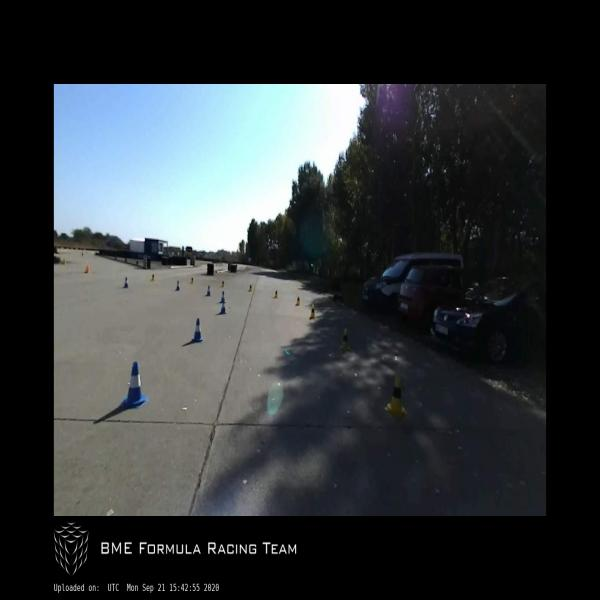blue_cone: (121, 361, 149, 409), (190, 317, 203, 342), (219, 298, 227, 314), (219, 290, 226, 303), (205, 284, 212, 296), (220, 290, 226, 304), (123, 276, 129, 289), (174, 280, 180, 291)
orange_cone: (84, 265, 89, 273)
yellow_cone: (384, 375, 405, 419), (338, 327, 352, 352), (309, 304, 316, 320), (272, 289, 278, 299), (295, 296, 300, 306), (247, 283, 252, 293), (189, 276, 194, 286), (220, 280, 226, 288), (150, 273, 155, 282)
